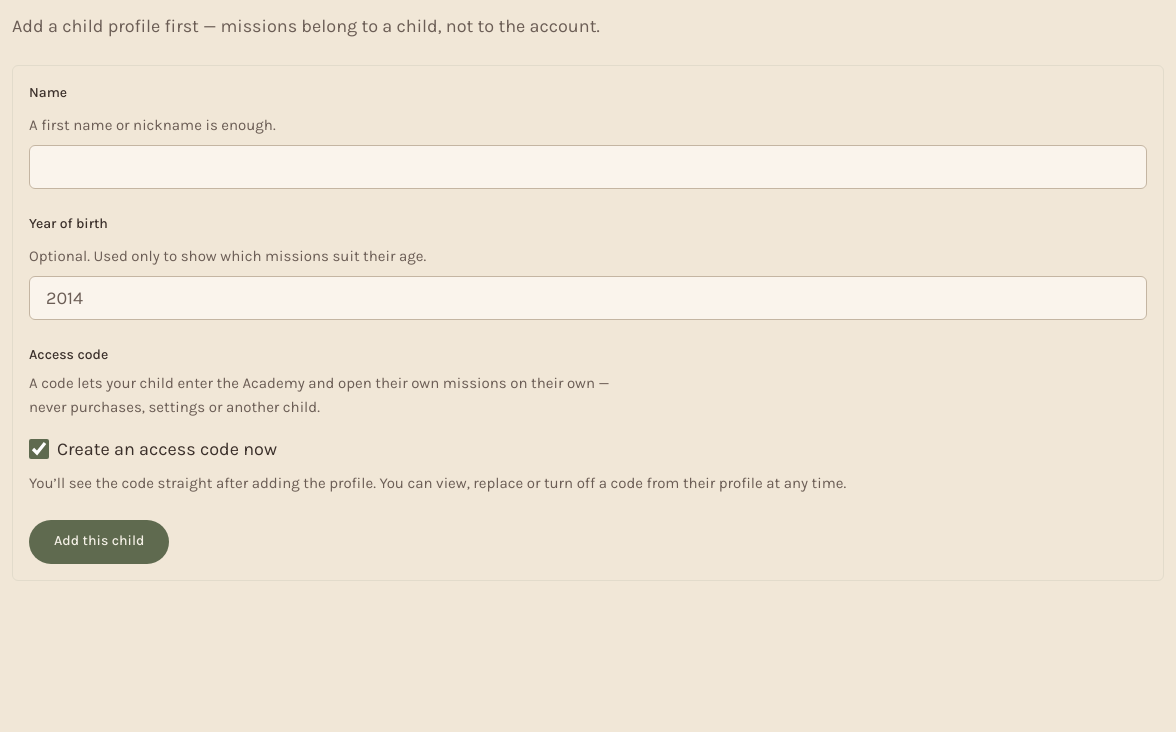
Test: choosing or adding a child while buying (D-144) › a parent with no children gets the form straight away, still created only on submit
Expected: the text "Add a child profile first" is shown, [12,15,600,37]
Expected: the button "Continue to payment" is not shown
Type "Bilal" into the field labelled "Name". click: (588, 167)
box: [29,145,1147,189]
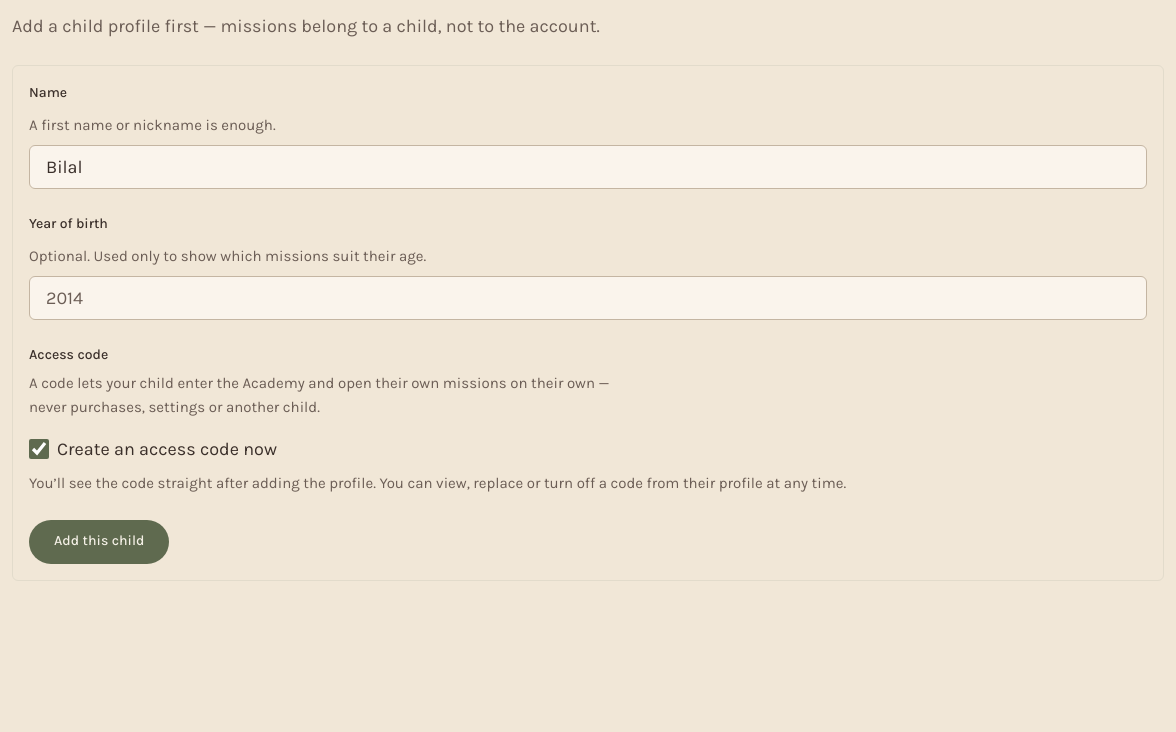
Click the button "Add this child". click: (99, 542)
box: [29,520,169,564]
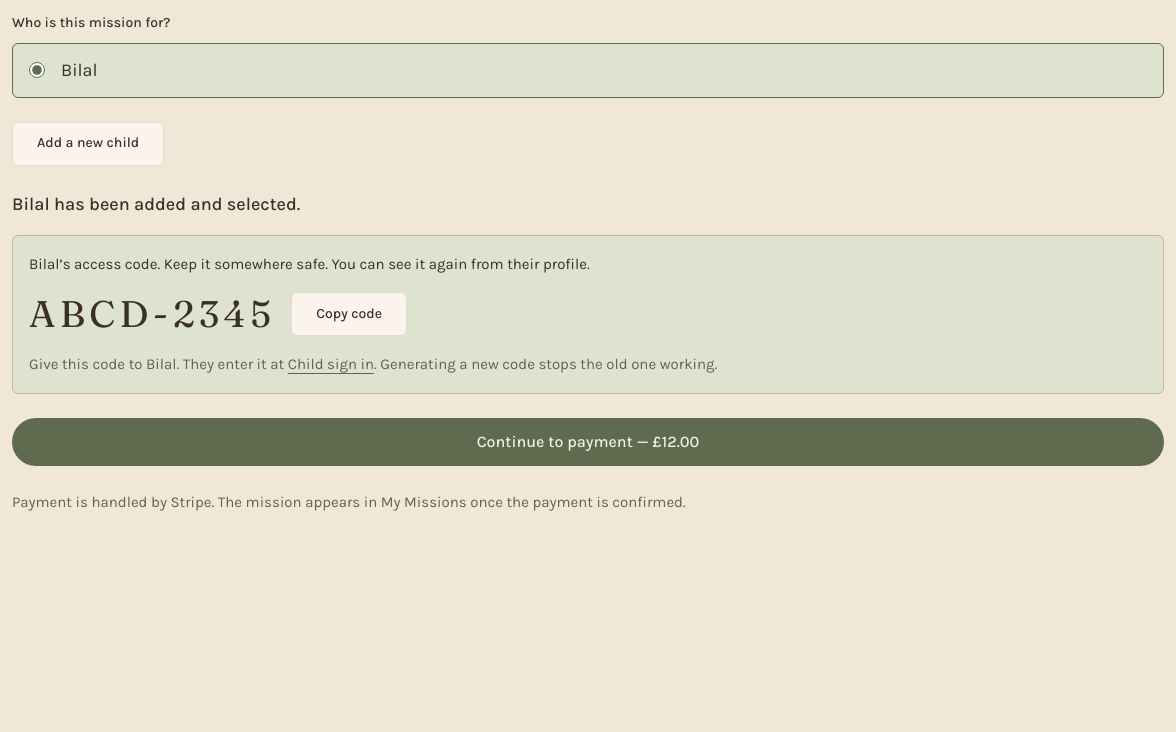
Expected: the button "Continue to payment — £12.00" is shown, [12,418,1164,466]
